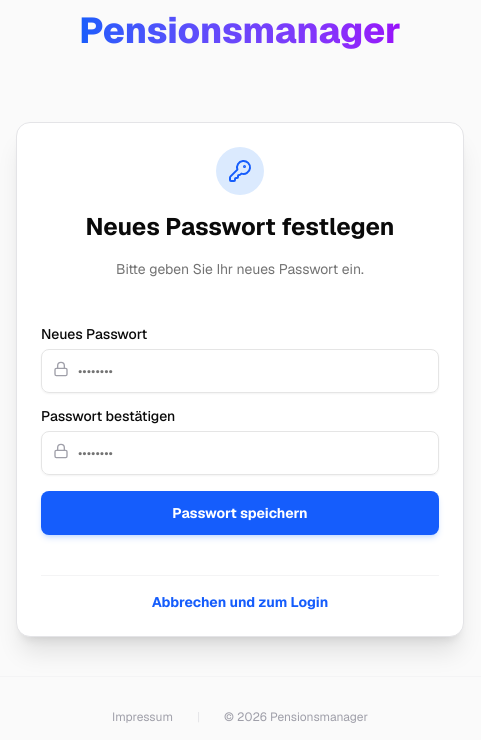
Test case: ResetPasswordPage › shows error if passwords do not match
Type "newpassword123" into the password field with placeholder "••••••••" at [240, 371], box [41,349,439,393]
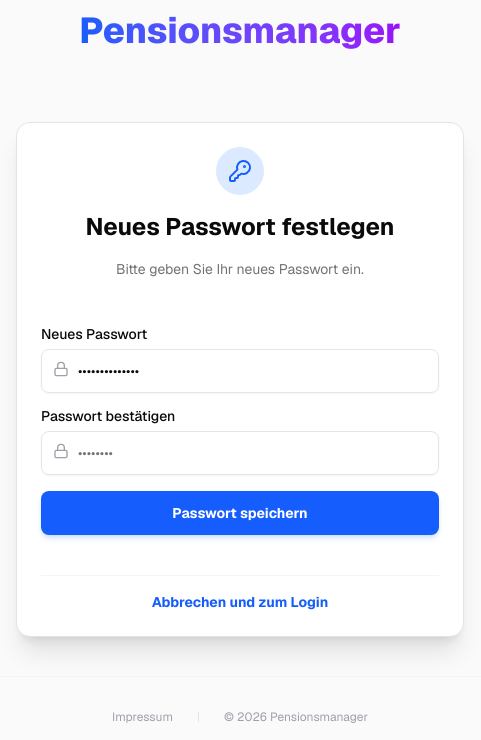
Type "differentpassword" into the password field with placeholder "••••••••" at [240, 453], box [41,431,439,475]
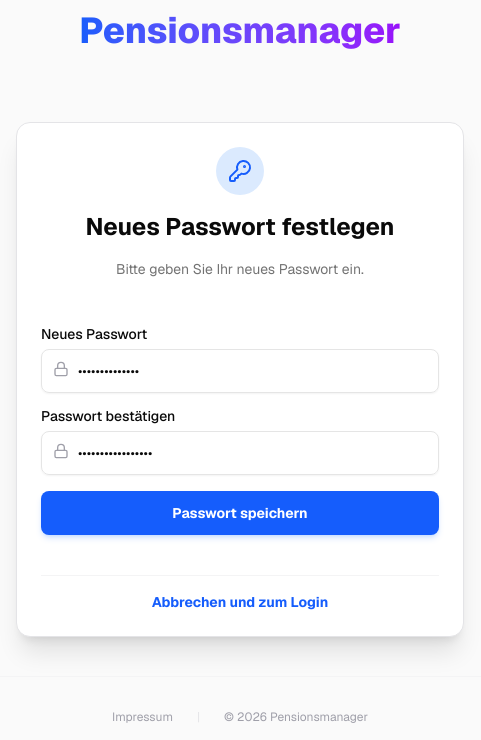
Click the button "Passwort speichern" at [240, 513], box [41,491,439,535]
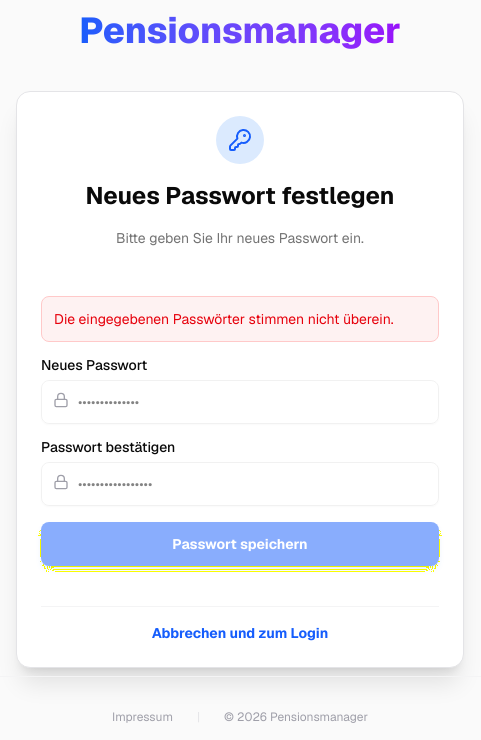
Expected: the text "Die eingegebenen Passwörter stimmen nicht überein." is shown, [41,296,439,342]
